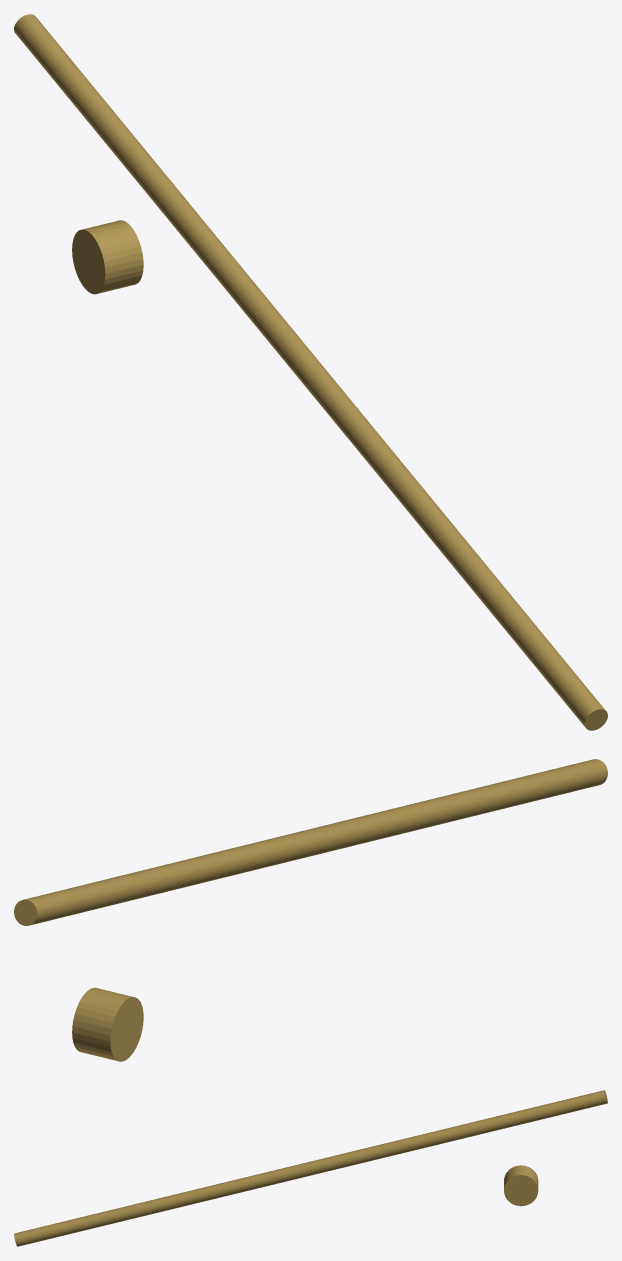
Rendered from prop_pancing.obj.
3 renders of one model, top to bottom at view 1: azimuth 30°, elevation 25°; view 2: azimuth 150°, elevation 25°; view 3: azimuth 270°, elevation 25°, orthographic. The views are drawn at different scales.
Visible parts, largest first — view 1: prop_pancing; view 2: prop_pancing; view 3: prop_pancing.
Boxes of the visible parts, x1=… form: prop_pancing: x1=14, y1=14, x2=607, y2=730; prop_pancing: x1=14, y1=759, x2=607, y2=1061; prop_pancing: x1=14, y1=1090, x2=607, y2=1246.
Bounding box in the file's own units: 0.06 × 0.4489 × 1.55.
